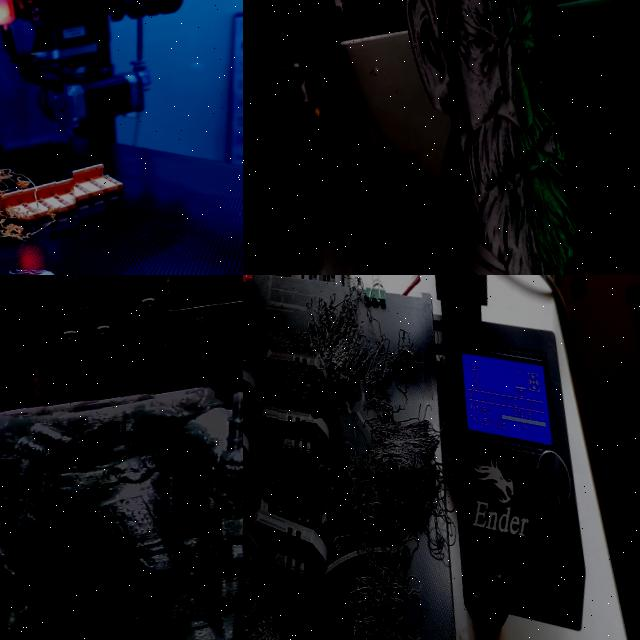spaghetti: (246, 275, 439, 426), (0, 56, 87, 272), (348, 406, 442, 553), (347, 547, 436, 640), (243, 567, 307, 640)
